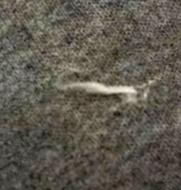snag: (57, 75, 148, 108)
